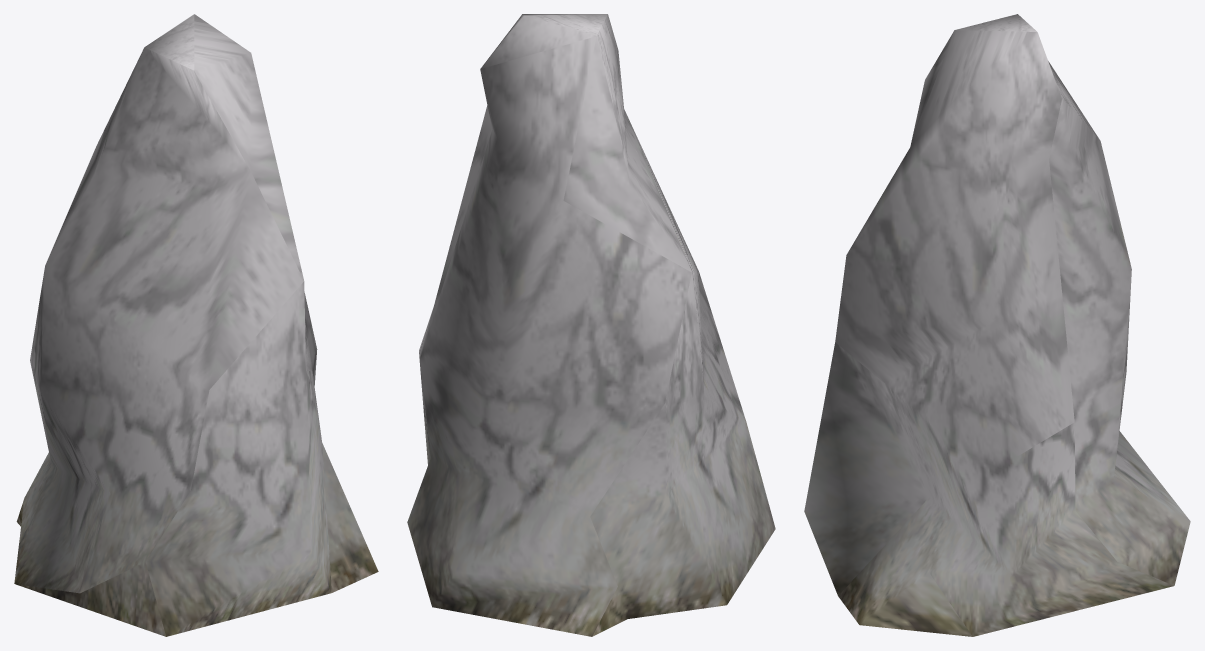
Rendered from general_obj_bigstone10_lod_01.glb.
3 renders of one model, left to right at view 1: azimuth 30°, elevation 25°; view 2: azimuth 150°, elevation 25°; view 3: azimuth 270°, elevation 25°, orthographic. The views are drawn at different scales.
Visible parts, largest first — view 1: Sphere01fs02; view 2: Sphere01fs02; view 3: Sphere01fs02.
Boxes of the visible parts, bbox=[...] form: Sphere01fs02: bbox=[14, 14, 378, 636]; Sphere01fs02: bbox=[407, 14, 775, 636]; Sphere01fs02: bbox=[804, 14, 1190, 636].
Bounding box in the file's own units: 13.23 × 21.35 × 13.75.
Materials: 1 (1 with a texture image).
